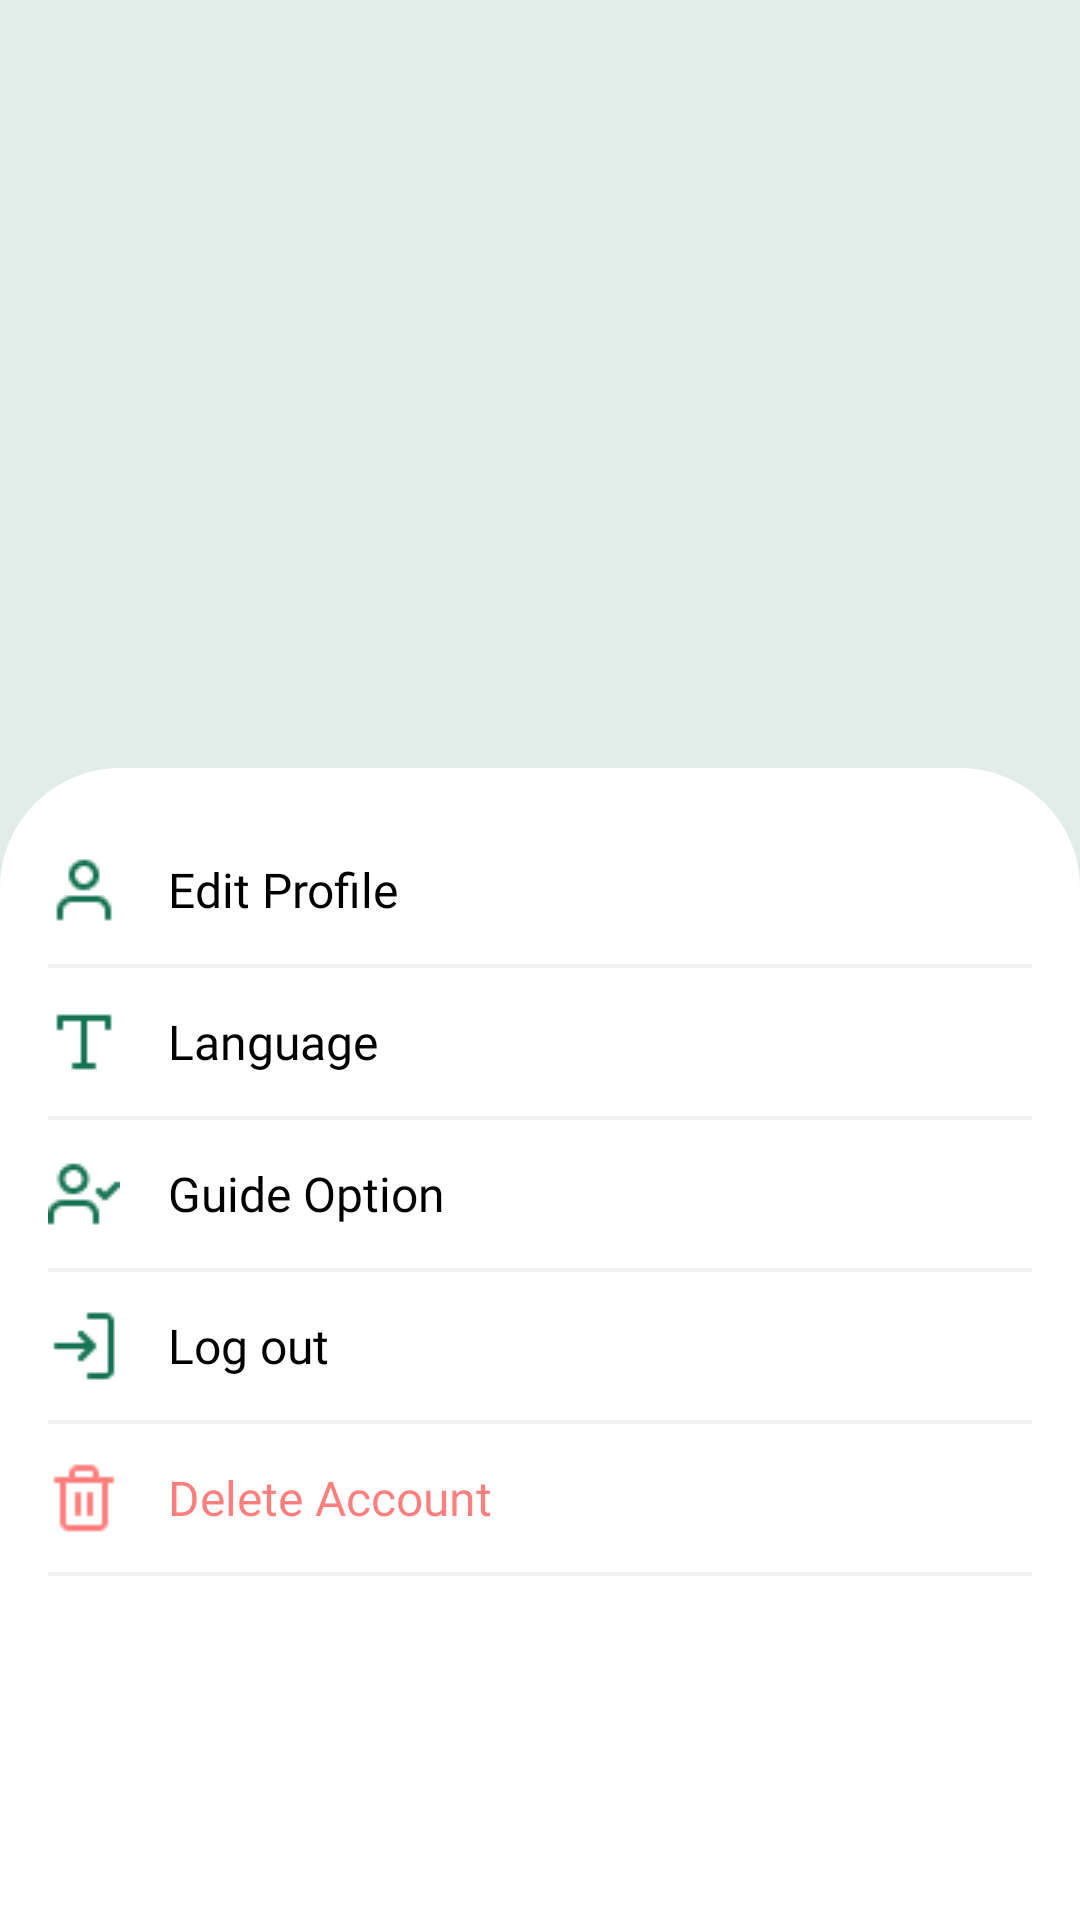

Point at icon controls on the screen. Image size 1080*1920, points as (x,y).
trash: (84,1498)
user: (84,890)
